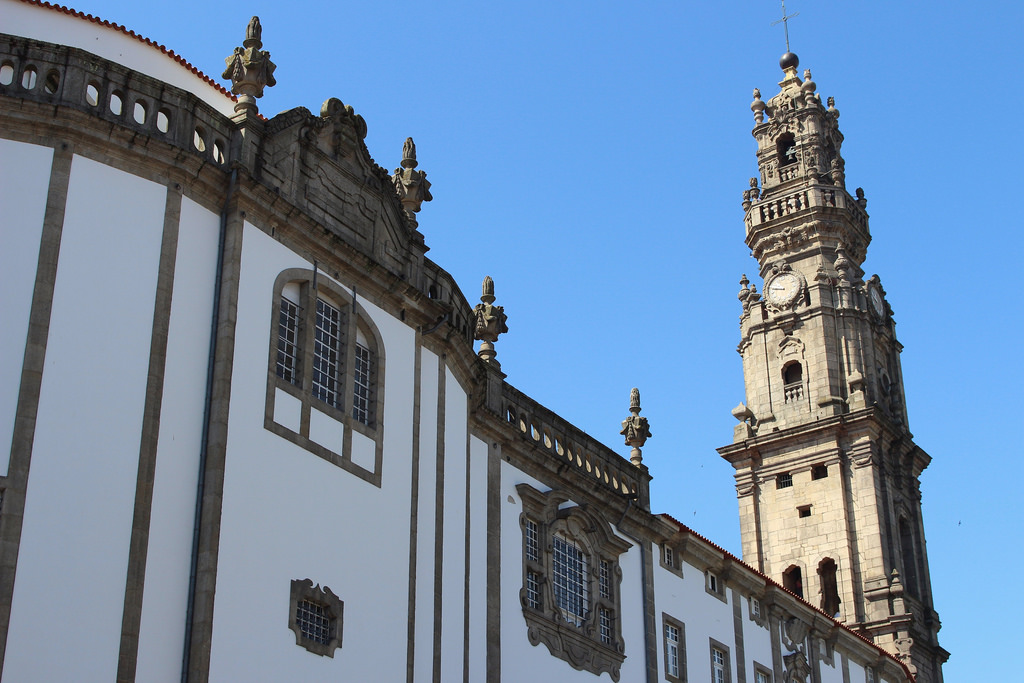clerigos: (711, 0, 956, 682)
